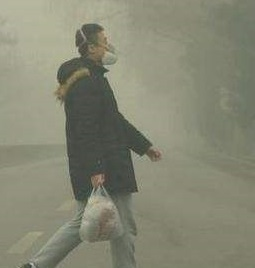person: (20, 22, 164, 268)
